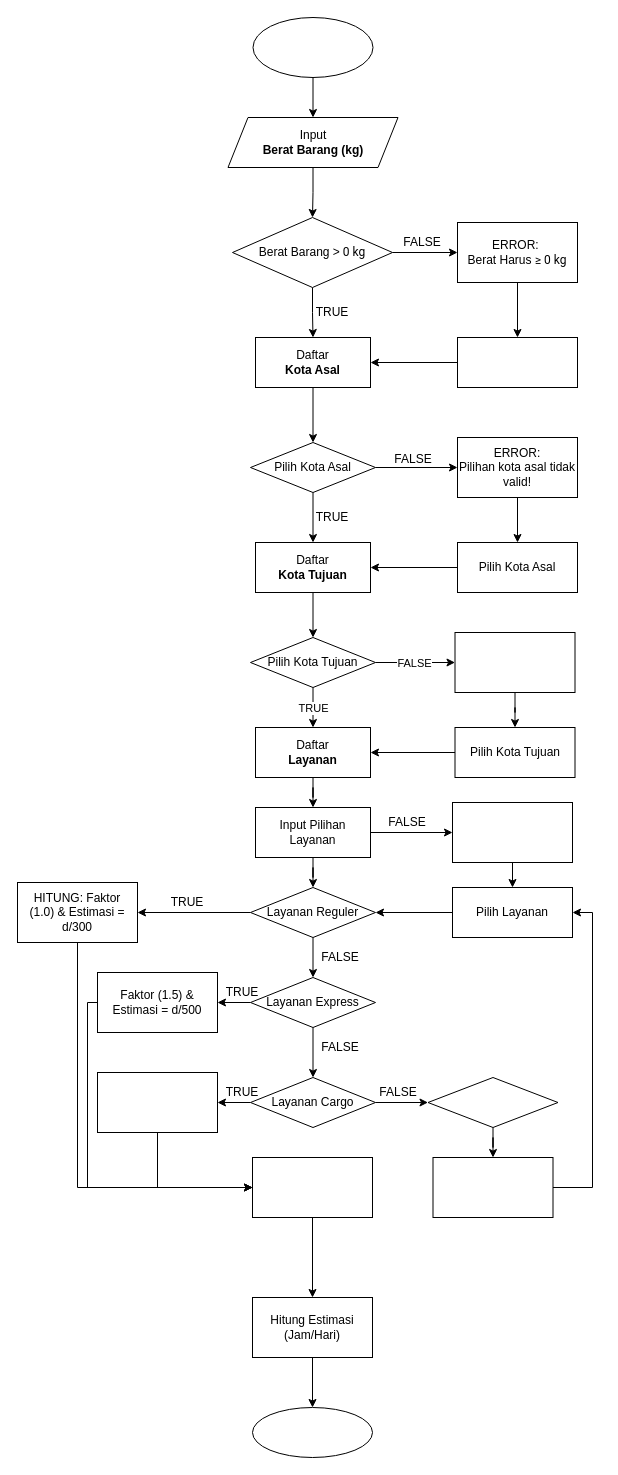
The diagram is 618 pixels wide and 1475 high, and some of its shapes have lost their labels. Here are the shapes that lost their labels. From the top down, the box of each, then its label:
(252, 16, 373, 78): Mulai
(456, 336, 578, 388): Input Berat Barang
(454, 632, 575, 692): ERROR: Pilihan kota tujuan tidak valid atau sama dengan kota asal
(452, 802, 572, 862): ERROR: Pilihan layanan tidak valid!
(96, 1072, 218, 1132): Faktor (0.8) & Estimasi = d/200
(427, 1076, 558, 1128): Berat Barang < 5 kg
(252, 1156, 372, 1218): Hitung Total = biaya * faktor
(432, 1156, 553, 1218): ERROR: Cargo hanya untuk berat ≥ 5 kg!
(252, 1406, 372, 1458): Selesai
